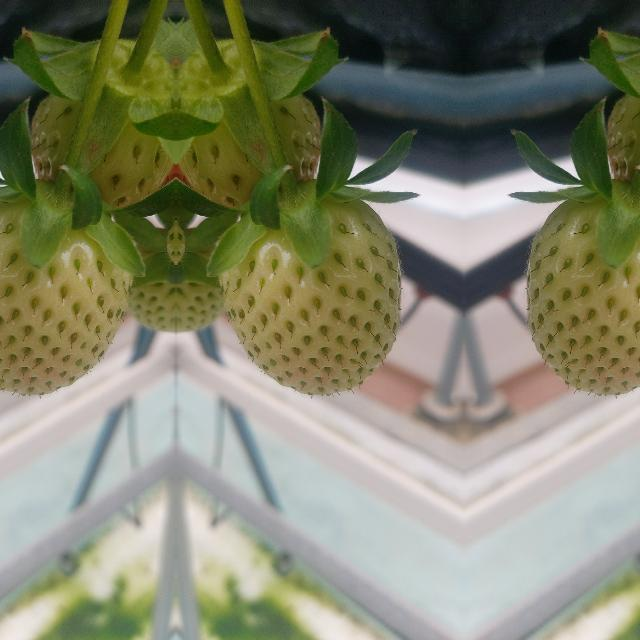Health_25: (217, 200, 401, 394), (0, 199, 133, 394), (175, 40, 322, 212), (28, 40, 175, 212), (525, 199, 640, 394), (604, 40, 640, 211)
